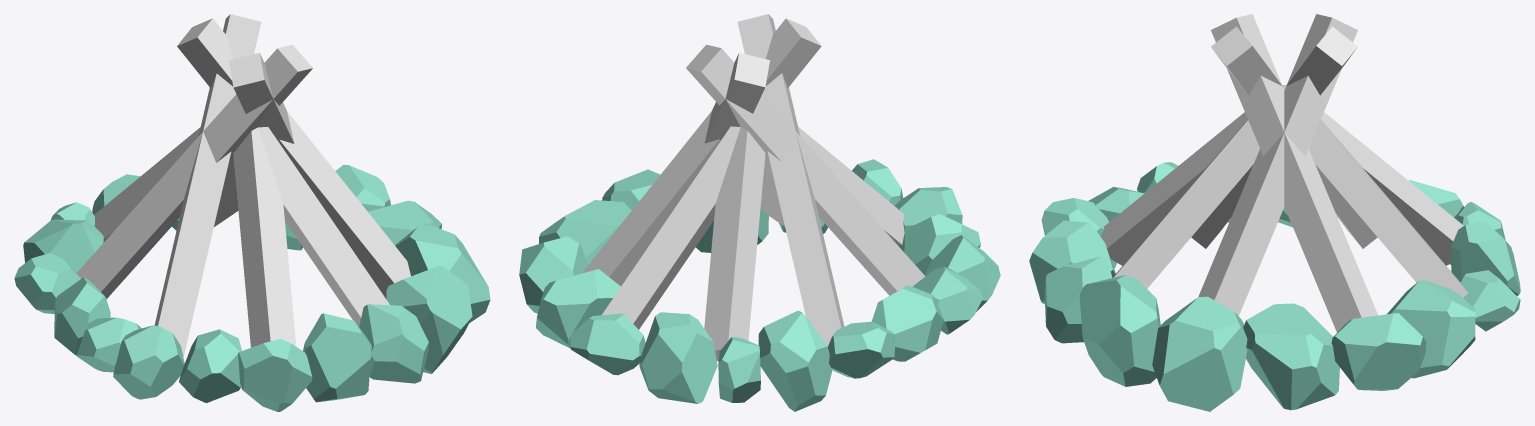
Rendered from костер 1.fbx.
The picture shows the model from 3 angles, left to right: view 1: azimuth 30°, elevation 25°; view 2: azimuth 150°, elevation 25°; view 3: azimuth 270°, elevation 25°; orthographic projection. The views are drawn at different scales.
Visible parts, largest first — view 1: Cube.002; view 2: Cube.002; view 3: Cube.002.
Part boxes in pixels (x1=…): Cube.002: x1=14, y1=14, x2=490, y2=411; Cube.002: x1=519, y1=14, x2=1000, y2=411; Cube.002: x1=1029, y1=14, x2=1520, y2=411.
Size of the model in its own units: 0.528 by 0.386 by 0.5568.
